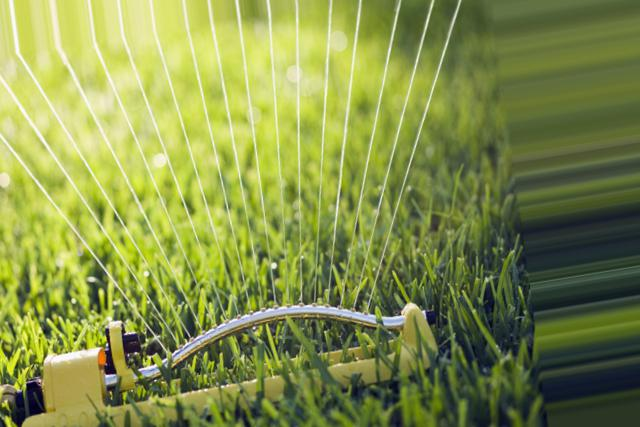patch: (13, 11, 19, 41)
